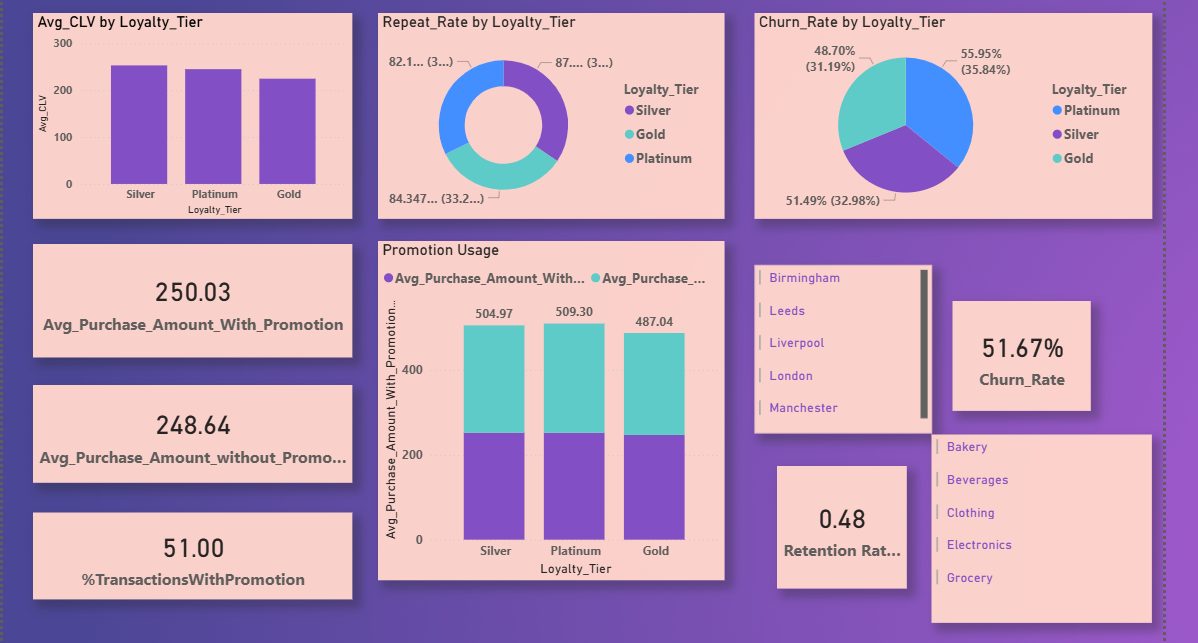

The dashboard page shown, as its layout file describes it:
{"tool":"powerbi","page":{"name":"Page 2 Loyalty & Promotion Impact","canvas":[1280,720],"ordinal":8},"visuals":[{"type":"card","fields":{"Values":["Customer_Transactions.%TransactionsWithPromotion"]},"box":[33.3,574.5,352.9,96.1],"z":0},{"type":"card","fields":{"Values":["Customer_Transactions.Avg_Purchase_Amount_without_Promotion"]},"box":[33.3,433.3,352.9,107.8],"z":1000},{"type":"pieChart","fields":{"Y":["Churn_Labelled_Customers.Churn_Rate"],"Category":["Loyalty_Program.Loyalty_Tier"]},"box":[829.4,23.5,439.2,227.5],"z":2000},{"type":"columnChart","title":"Promotion Usage","fields":{"Y":["Customer_Transactions.Avg_Purchase_Amount_With_Promotion","Customer_Transactions.Avg_Purchase_Amount"],"Category":["Loyalty_Program.Loyalty_Tier"]},"box":[413.7,274.5,382.4,374.5],"z":3000},{"type":"donutChart","fields":{"Category":["Loyalty_Program.Loyalty_Tier"],"Y":["Churn_Labelled_Customers.Repeat_Rate"]},"box":[413.7,23.5,382.4,227.5],"z":4000},{"type":"card","fields":{"Values":["Customer_Transactions.Avg_Purchase_Amount_With_Promotion"]},"box":[33.3,278.4,352.9,125.5],"z":5000},{"type":"multiRowCard","fields":{"Values":["Customer_Demographics.Region"]},"box":[829.4,302,196.1,186.3],"z":6000},{"type":"multiRowCard","fields":{"Values":["Customer_Transactions.Product_Category"]},"box":[1025.5,488.2,243.1,207.8],"z":7000},{"type":"columnChart","fields":{"Y":["Customer_Demographics.Avg_CLV"],"Category":["Loyalty_Program.Loyalty_Tier"]},"box":[33.3,23.5,352.9,227.5],"z":8000},{"type":"card","fields":{"Values":["Churn_Labelled_Customers.Churn_Rate"]},"box":[1049,341.2,152.9,121.6],"z":9000},{"type":"card","fields":{"Values":["Churn_Labelled_Customers.Retention Rate %"]},"box":[854.9,523.5,143.1,135.3],"z":10000}]}

Visuals, with their boxes in screenshot pixels (x1, y1, x2, y2):
card - Customer_Transactions.%TransactionsWithPromotion: bbox=(27, 512, 349, 600)
card - Customer_Transactions.Avg_Purchase_Amount_without_Promotion: bbox=(27, 383, 349, 481)
pieChart - Churn_Labelled_Customers.Churn_Rate x Loyalty_Program.Loyalty_Tier: bbox=(754, 9, 1155, 217)
"Promotion Usage" columnChart: bbox=(374, 238, 723, 580)
donutChart - Loyalty_Program.Loyalty_Tier x Churn_Labelled_Customers.Repeat_Rate: bbox=(374, 9, 723, 217)
card - Customer_Transactions.Avg_Purchase_Amount_With_Promotion: bbox=(27, 242, 349, 356)
multiRowCard - Customer_Demographics.Region: bbox=(754, 263, 933, 433)
multiRowCard - Customer_Transactions.Product_Category: bbox=(933, 433, 1155, 623)
columnChart - Customer_Demographics.Avg_CLV x Loyalty_Program.Loyalty_Tier: bbox=(27, 9, 349, 217)
card - Churn_Labelled_Customers.Churn_Rate: bbox=(954, 299, 1094, 410)
card - Churn_Labelled_Customers.Retention Rate %: bbox=(777, 465, 908, 589)
